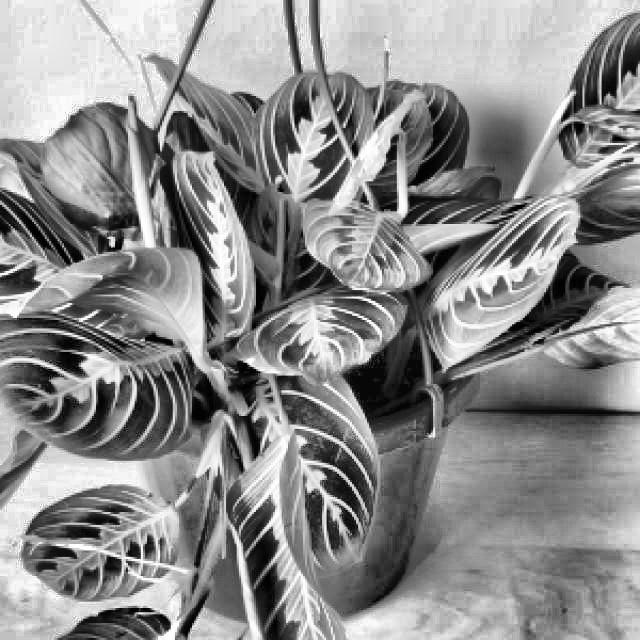plants: (8, 36, 638, 582)
